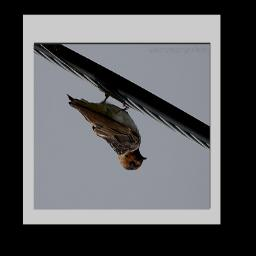Swallow: (64, 89, 148, 173)
